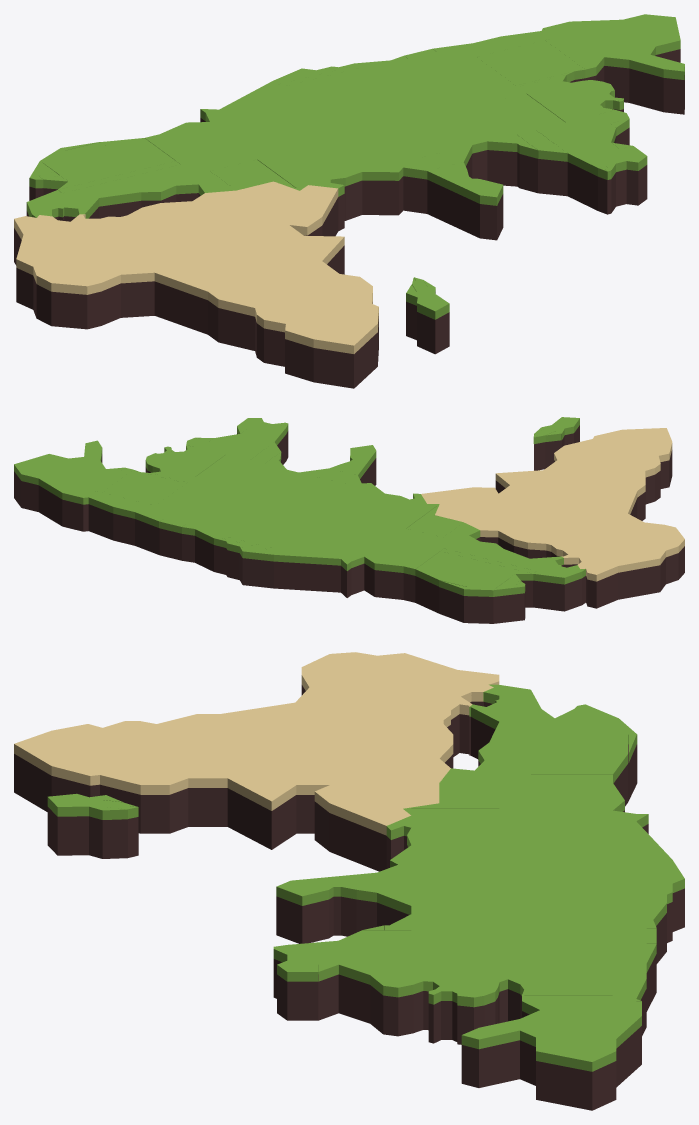
The model's file is mapamundi1.glb.
3 views of the same model, one above another, from view 1: azimuth 30°, elevation 25°; view 2: azimuth 150°, elevation 25°; view 3: azimuth 270°, elevation 25° (orthographic). The views are drawn at different scales.
Visible parts, largest first — view 1: box.469; view 2: box.469; view 3: box.469.
Part boxes in pixels (left/top/right/bottom): box.469: left=14, top=14, right=684, bottom=388; box.469: left=14, top=417, right=684, bottom=623; box.469: left=14, top=652, right=684, bottom=1110.
Size of the model in its own units: 90.34 by 5 by 62.48.
